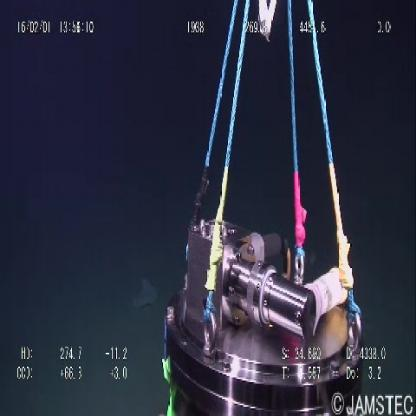Rov: (160, 3, 367, 415)
